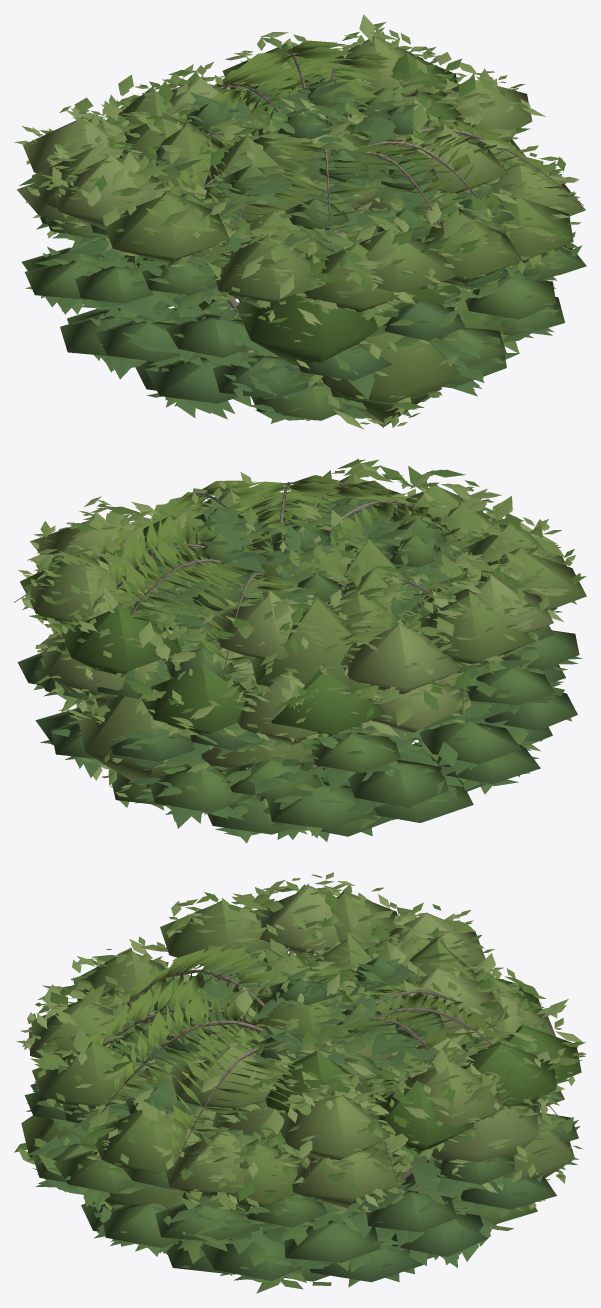
The model's file is street_vegetation.glb.
3 views of the same model, one above another, from view 1: azimuth 30°, elevation 25°; view 2: azimuth 150°, elevation 25°; view 3: azimuth 270°, elevation 25° (orthographic).
Visible parts, largest first — view 1: broadleaf_far_foliage, cypress_far_foliage, cypress_near_foliage, shrub_far_foliage, broadleaf_mid_foliage, broadleaf_near_foliage, cypress_mid_foliage, palm_far_foliage, palm_mid_foliage, shrub_mid_foliage, palm_near_foliage, shrub_near_foliage (+3 smaller); view 2: broadleaf_far_foliage, cypress_far_foliage, cypress_near_foliage, broadleaf_mid_foliage, broadleaf_near_foliage, shrub_far_foliage, cypress_mid_foliage, palm_far_foliage, palm_mid_foliage, palm_near_foliage, shrub_near_foliage, shrub_mid_foliage (+3 smaller); view 3: broadleaf_far_foliage, cypress_far_foliage, broadleaf_near_foliage, broadleaf_mid_foliage, cypress_near_foliage, shrub_far_foliage, cypress_mid_foliage, palm_mid_foliage, palm_far_foliage, palm_near_foliage, shrub_near_foliage, shrub_mid_foliage (+3 smaller).
Part boxes in pixels (left/top/right/bottom): broadleaf_far_foliage: left=17, top=36, right=585, bottom=312; cypress_far_foliage: left=21, top=76, right=586, bottom=420; cypress_near_foliage: left=25, top=76, right=581, bottom=423; shrub_far_foliage: left=108, top=73, right=505, bottom=427; broadleaf_mid_foliage: left=19, top=14, right=580, bottom=309; broadleaf_near_foliage: left=14, top=26, right=580, bottom=314; cypress_mid_foliage: left=47, top=79, right=555, bottom=419; palm_far_foliage: left=179, top=40, right=543, bottom=242; palm_mid_foliage: left=168, top=42, right=561, bottom=259; shrub_mid_foliage: left=104, top=75, right=479, bottom=429; palm_near_foliage: left=175, top=43, right=571, bottom=255; shrub_near_foliage: left=88, top=54, right=508, bottom=427; broadleaf_far_foliage: left=20, top=473, right=586, bottom=750; cypress_far_foliage: left=17, top=494, right=579, bottom=836; cypress_near_foliage: left=34, top=493, right=582, bottom=843; broadleaf_mid_foliage: left=24, top=459, right=571, bottom=744; broadleaf_near_foliage: left=18, top=458, right=586, bottom=750; shrub_far_foliage: left=40, top=526, right=557, bottom=801; cypress_mid_foliage: left=52, top=502, right=578, bottom=841; palm_far_foliage: left=99, top=475, right=460, bottom=660; palm_mid_foliage: left=96, top=478, right=467, bottom=683; palm_near_foliage: left=87, top=481, right=460, bottom=682; shrub_near_foliage: left=34, top=509, right=499, bottom=806; shrub_mid_foliage: left=35, top=502, right=477, bottom=780; broadleaf_far_foliage: left=28, top=883, right=581, bottom=1211; cypress_far_foliage: left=25, top=949, right=578, bottom=1282; broadleaf_near_foliage: left=16, top=872, right=585, bottom=1217; broadleaf_mid_foliage: left=22, top=884, right=586, bottom=1215; cypress_near_foliage: left=27, top=948, right=580, bottom=1293; shrub_far_foliage: left=21, top=933, right=575, bottom=1221; cypress_mid_foliage: left=26, top=954, right=578, bottom=1282; palm_mid_foliage: left=92, top=944, right=503, bottom=1165; palm_far_foliage: left=88, top=946, right=497, bottom=1142; palm_near_foliage: left=98, top=945, right=549, bottom=1177; shrub_near_foliage: left=24, top=927, right=582, bottom=1211; shrub_mid_foliage: left=14, top=923, right=571, bottom=1207.
Size of the model in its own units: 1.97 by 1 by 1.98.
